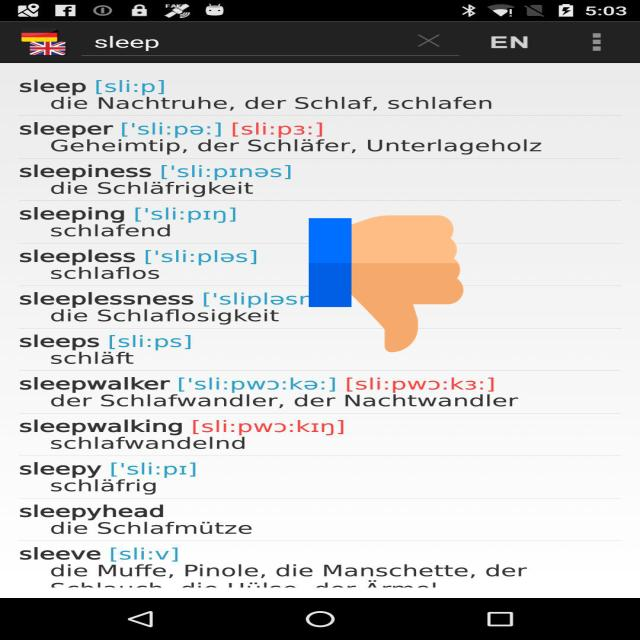obstruction: (309, 212, 463, 356)
